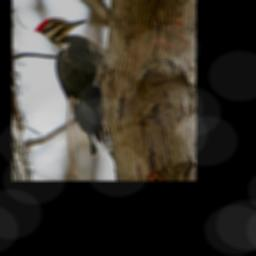Woodpecker: (34, 17, 116, 162)
